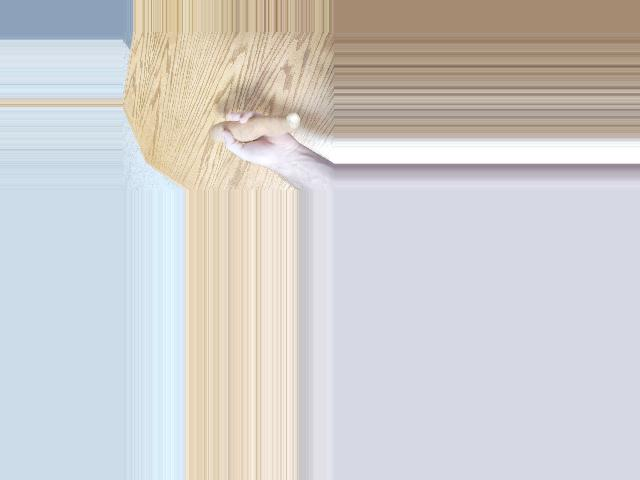sweet_potato: (202, 115, 302, 146)
